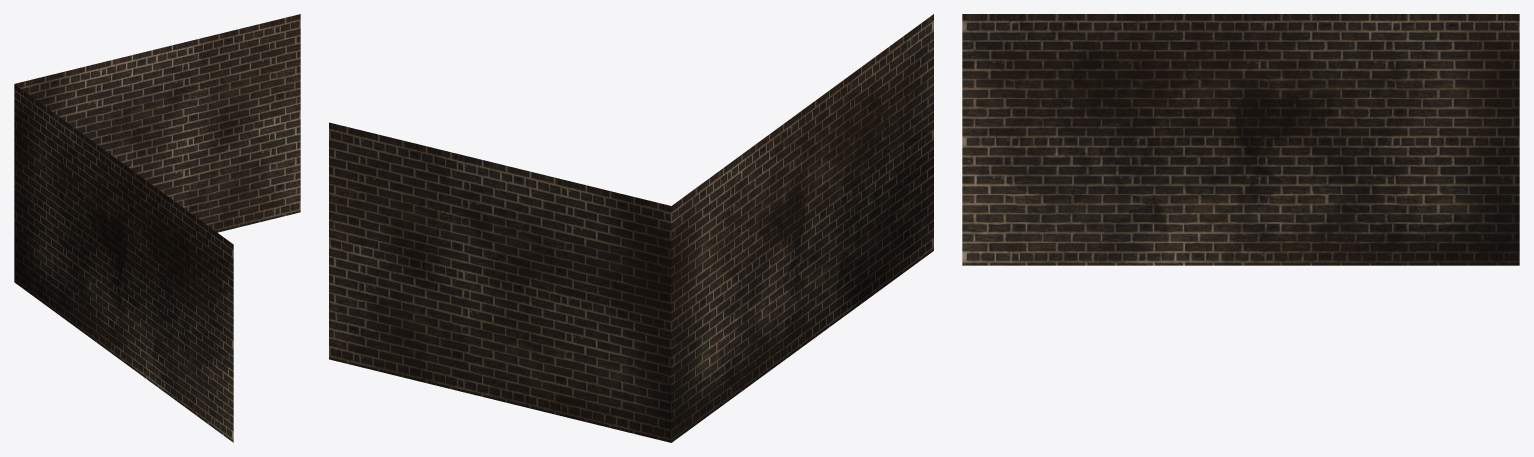
The model's file is wall.glb.
3 renders of one model, left to right at view 1: azimuth 30°, elevation 25°; view 2: azimuth 150°, elevation 25°; view 3: azimuth 270°, elevation 25°, orthographic. The views are drawn at different scales.
Visible parts, largest first — view 1: Wall; view 2: Wall; view 3: Wall.
Boxes of the visible parts, left/top/right/bottom form: Wall: left=14, top=14, right=300, bottom=442; Wall: left=329, top=14, right=933, bottom=442; Wall: left=962, top=14, right=1519, bottom=265.
Size of the model in its own units: 7.54 by 4.99 by 10.01.
1 material, 1 textured.
